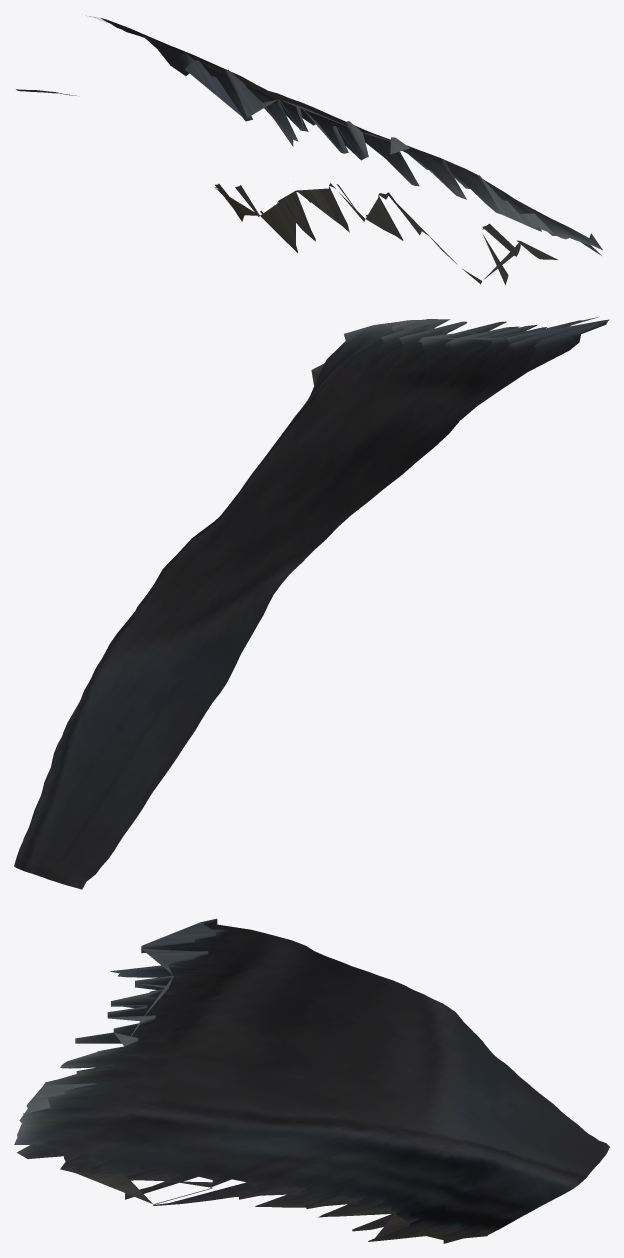
File: observed-surface.glb
3 views of the same model, one above another, from view 1: azimuth 30°, elevation 25°; view 2: azimuth 150°, elevation 25°; view 3: azimuth 270°, elevation 25° (orthographic). The views are drawn at different scales.
Visible parts, largest first — view 1: geometry_0; view 2: geometry_0; view 3: geometry_0.
Part boxes in pixels (box(x1,y1,x2,y2)): geometry_0: box(16, 16, 602, 284); geometry_0: box(14, 316, 609, 889); geometry_0: box(14, 918, 609, 1243).
Size of the model in its own units: 0.4427 by 0.4633 by 1.02.
1 material, 1 textured.
